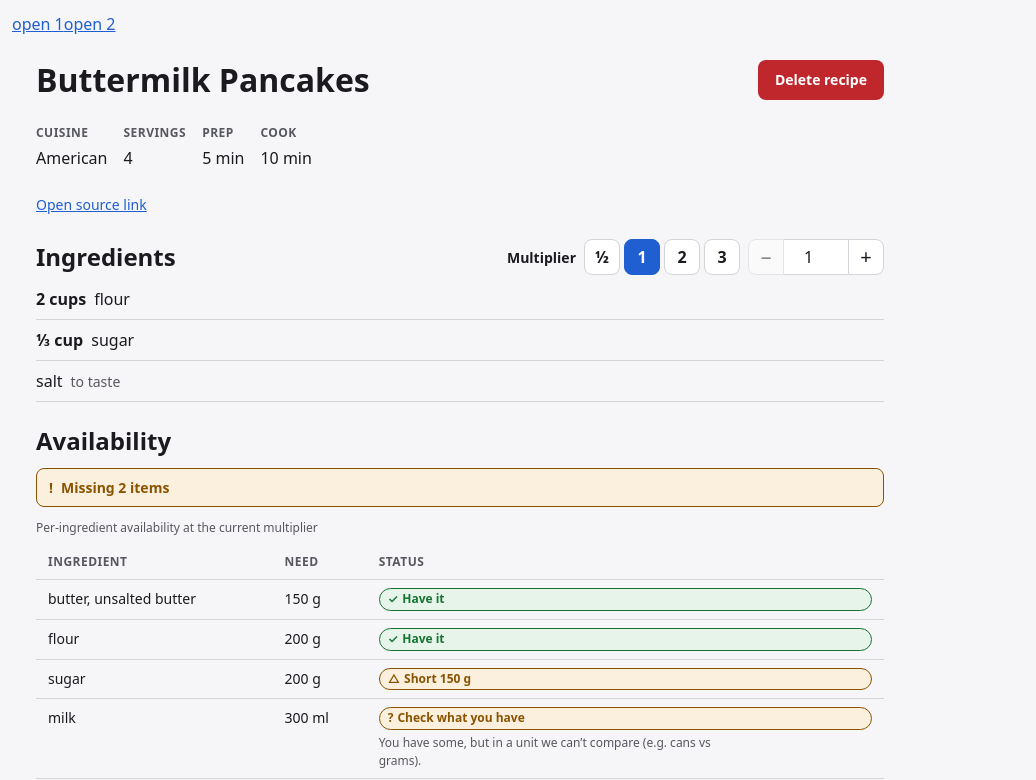
Test: RecipeDetail availability › re-queries and rescales the table when the multiplier changes
Expected: the heading "Buttermilk Pancakes" is shown, x1=36 y1=60 x2=370 y2=100
Click the button "2". click: (682, 257)
box: x1=664 y1=239 x2=700 y2=275
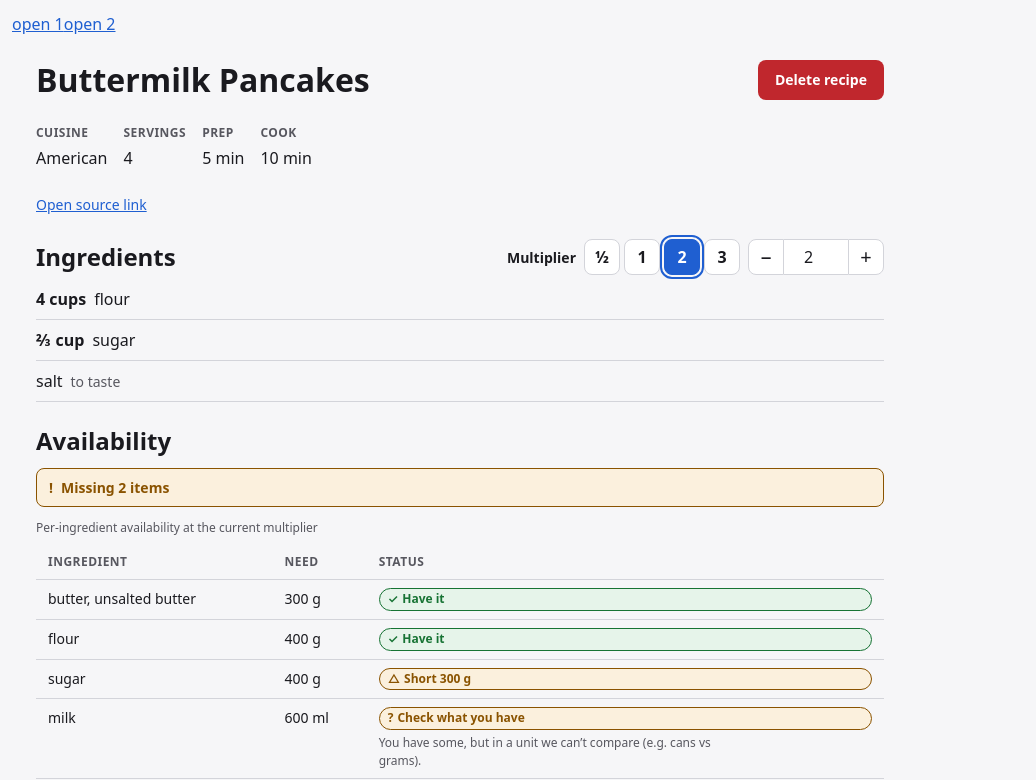
Expected: the row "flour 400 g ✓ Have it" is shown, x1=36 y1=619 x2=884 y2=659
